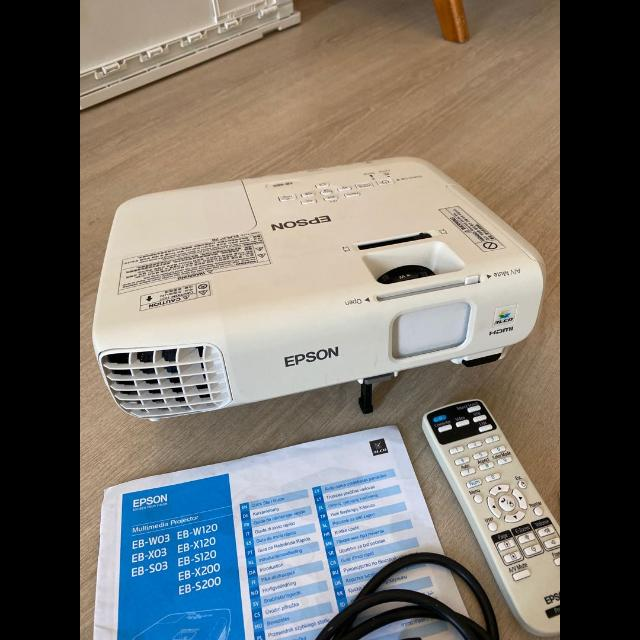Projector: (96, 155, 544, 417)
